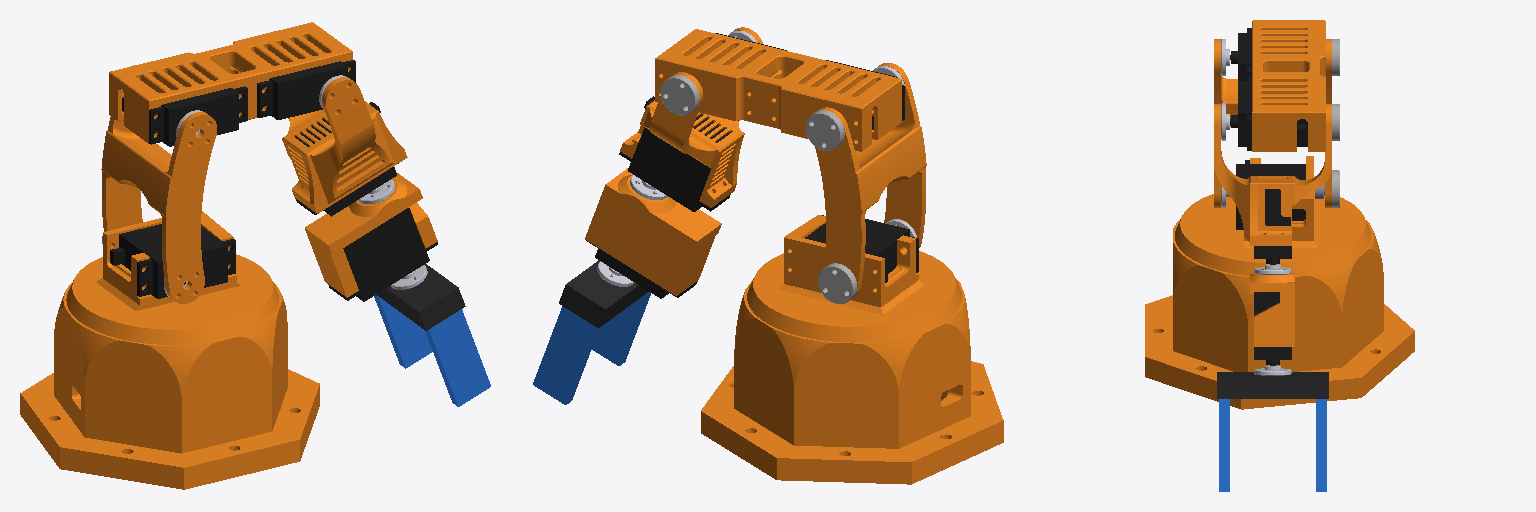
The robot description file, URDF, robot "mahut_kol":
<?xml version="1.0" encoding="utf-8"?>
<!-- Üretildi: scripts/mjcf_to_urdf.py (Yeni_model/arm_mujoco.xml). Elle düzenleme. -->
<robot name="mahut_kol">
  <material name="mat0"><color rgba="0.95 0.55 0.15 1.0"/></material>
  <material name="mat1"><color rgba="0.15 0.15 0.15 1.0"/></material>
  <material name="mat2"><color rgba="0.8 0.8 0.85 1.0"/></material>
  <material name="mat3"><color rgba="0.7 0.7 0.7 1.0"/></material>
  <material name="mat4"><color rgba="0.6 0.6 0.65 1.0"/></material>
  <material name="mat5"><color rgba="0.2 0.2 0.2 1.0"/></material>
  <material name="mat6"><color rgba="0.2 0.5 0.9 1.0"/></material>
  <link name="base_link">
    <inertial><origin xyz="-0.0017497962 3.103677e-06 0.033321023" rpy="0 -0 0"/><mass value="2.3991415"/><inertia ixx="0.0042487026" ixy="-1.3010903e-08" ixz="5.1621634e-05" iyy="0.0043231938" iyz="4.2568481e-08" izz="0.0059883261"/></inertial>
    <visual><origin xyz="0.00017414587 -8.1382822e-07 0.032529586" rpy="1.5704775 -1.5626057 -3.1412738"/><geometry><mesh filename="../meshes/base.stl"/></geometry><material name="mat0"/></visual>
    <collision><origin xyz="0.00017414587 -8.1382822e-07 0.032529586" rpy="1.5704775 -1.5626057 -3.1412738"/><geometry><mesh filename="../meshes/base.stl"/></geometry></collision>
    <visual><origin xyz="-0.0094135191 -2.8190671e-09 0.038651575" rpy="-1.4544058 -1.110223e-15 1.5707963"/><geometry><mesh filename="../meshes/servo1.stl"/></geometry><material name="mat1"/></visual>
    <collision><origin xyz="-0.0094135191 -2.8190671e-09 0.038651575" rpy="-1.4544058 -1.110223e-15 1.5707963"/><geometry><mesh filename="../meshes/servo1.stl"/></geometry></collision>
  </link>
  <link name="link0">
    <inertial><origin xyz="0.00013939106 0.00074845319 0.014287667" rpy="0 -0 0"/><mass value="0.94696633"/><inertia ixx="0.00052596557" ixy="-7.6734031e-07" ixz="-3.2852494e-06" iyy="0.0005553293" iyz="-5.3154704e-06" izz="0.00087601291"/></inertial>
    <visual><origin xyz="-2.6465775e-06 -3.0028526e-09 0.0007421913" rpy="-1.5707963 1.5707963 0"/><geometry><mesh filename="../meshes/horn1.stl"/></geometry><material name="mat2"/></visual>
    <collision><origin xyz="-2.6465775e-06 -3.0028526e-09 0.0007421913" rpy="-1.5707963 1.5707963 0"/><geometry><mesh filename="../meshes/horn1.stl"/></geometry></collision>
    <visual><origin xyz="0.0005211609 0.0020814385 0.011676969" rpy="1.9574938 -1.4936363 -1.8952096"/><geometry><mesh filename="../meshes/link1.stl"/></geometry><material name="mat0"/></visual>
    <collision><origin xyz="0.0005211609 0.0020814385 0.011676969" rpy="1.9574938 -1.4936363 -1.8952096"/><geometry><mesh filename="../meshes/link1.stl"/></geometry></collision>
    <visual><origin xyz="-0.00045177394 -0.00080157727 0.027874001" rpy="0.11639048 1.5707963 0"/><geometry><mesh filename="../meshes/servo1.stl"/></geometry><material name="mat1"/></visual>
    <collision><origin xyz="-0.00045177394 -0.00080157727 0.027874001" rpy="0.11639048 1.5707963 0"/><geometry><mesh filename="../meshes/servo1.stl"/></geometry></collision>
  </link>
  <link name="link1">
    <inertial><origin xyz="-0.00021788633 0.02713021 0.044896813" rpy="0 -0 0"/><mass value="0.31114101"/><inertia ixx="0.00034096141" ixy="-2.0516641e-06" ixz="-1.0679379e-05" iyy="0.00017513836" iyz="2.4296558e-06" izz="0.00019134108"/></inertial>
    <visual><origin xyz="2.6367682e-06 -0.0007421913 -2.27673e-07" rpy="-3.0543262 -1.4155344e-15 1.5707963"/><geometry><mesh filename="../meshes/horn1.stl"/></geometry><material name="mat2"/></visual>
    <collision><origin xyz="2.6367682e-06 -0.0007421913 -2.27673e-07" rpy="-3.0543262 -1.4155344e-15 1.5707963"/><geometry><mesh filename="../meshes/horn1.stl"/></geometry></collision>
    <visual><origin xyz="0.00028310356 0.025208087 0.041736462" rpy="-3.1395065 -0.081028503 -3.1403311"/><geometry><mesh filename="../meshes/link2.stl"/></geometry><material name="mat0"/></visual>
    <collision><origin xyz="0.00028310356 0.025208087 0.041736462" rpy="-3.1395065 -0.081028503 -3.1403311"/><geometry><mesh filename="../meshes/link2.stl"/></geometry></collision>
    <visual><origin xyz="2.6206498e-06 0.057942297 -2.353809e-07" rpy="2.7052603 -4.7773018e-07 1.5707953"/><geometry><mesh filename="../meshes/pin1.stl"/></geometry><material name="mat3"/></visual>
    <collision><origin xyz="2.6206498e-06 0.057942297 -2.353809e-07" rpy="2.7052603 -4.7773018e-07 1.5707953"/><geometry><mesh filename="../meshes/pin1.stl"/></geometry></collision>
    <visual><origin xyz="2.6366124e-06 0.050026 -2.2879336e-07" rpy="-0.43633231 -1.2212453e-15 1.5707963"/><geometry><mesh filename="../meshes/bearing1.stl"/></geometry><material name="mat4"/></visual>
    <collision><origin xyz="2.6366124e-06 0.050026 -2.2879336e-07" rpy="-0.43633231 -1.2212453e-15 1.5707963"/><geometry><mesh filename="../meshes/bearing1.stl"/></geometry></collision>
    <visual><origin xyz="0.0070796834 -0.0007421913 0.08089078" rpy="2.443461 -9.9920072e-16 1.5707963"/><geometry><mesh filename="../meshes/horn1.stl"/></geometry><material name="mat2"/></visual>
    <collision><origin xyz="0.0070796834 -0.0007421913 0.08089078" rpy="2.443461 -9.9920072e-16 1.5707963"/><geometry><mesh filename="../meshes/horn1.stl"/></geometry></collision>
    <visual><origin xyz="0.0070796989 0.057942297 0.080890787" rpy="-0.43633231 4.7773017e-07 1.5707974"/><geometry><mesh filename="../meshes/pin1.stl"/></geometry><material name="mat3"/></visual>
    <collision><origin xyz="0.0070796989 0.057942297 0.080890787" rpy="-0.43633231 4.7773017e-07 1.5707974"/><geometry><mesh filename="../meshes/pin1.stl"/></geometry></collision>
    <visual><origin xyz="0.0070796829 0.050026 0.080890781" rpy="1.1344631 -1.6098234e-15 1.5707963"/><geometry><mesh filename="../meshes/bearing1.stl"/></geometry><material name="mat4"/></visual>
    <collision><origin xyz="0.0070796829 0.050026 0.080890781" rpy="1.1344631 -1.6098234e-15 1.5707963"/><geometry><mesh filename="../meshes/bearing1.stl"/></geometry></collision>
  </link>
  <link name="link2">
    <inertial><origin xyz="0.04076203 0.030354201 0.0014821496" rpy="0 -0 0"/><mass value="0.81843902"/><inertia ixx="0.00018234285" ixy="2.4203458e-16" ixz="-6.057302e-17" iyy="0.0010175443" iyz="-4.5654918e-06" izz="0.0011265212"/></inertial>
    <visual><origin xyz="0.0094129026 0.025374425 1.703526e-06" rpy="0.11639048 1.5707963 0"/><geometry><mesh filename="../meshes/servo1.stl"/></geometry><material name="mat1"/></visual>
    <collision><origin xyz="0.0094129026 0.025374425 1.703526e-06" rpy="0.11639048 1.5707963 0"/><geometry><mesh filename="../meshes/servo1.stl"/></geometry></collision>
    <visual><origin xyz="0.040762889 0.034269652 0.0036059036" rpy="1.5707558 1.4819888 -1.5708462"/><geometry><mesh filename="../meshes/link3.stl"/></geometry><material name="mat0"/></visual>
    <collision><origin xyz="0.040762889 0.034269652 0.0036059036" rpy="1.5707558 1.4819888 -1.5708462"/><geometry><mesh filename="../meshes/link3.stl"/></geometry></collision>
    <visual><origin xyz="0.072111157 0.025374425 1.701634e-06" rpy="0.11639048 -1.5707963 0"/><geometry><mesh filename="../meshes/servo1.stl"/></geometry><material name="mat1"/></visual>
    <collision><origin xyz="0.072111157 0.025374425 1.701634e-06" rpy="0.11639048 -1.5707963 0"/><geometry><mesh filename="../meshes/servo1.stl"/></geometry></collision>
  </link>
  <link name="link3">
    <inertial><origin xyz="0.014922507 0.024245204 -0.04030788" rpy="0 -0 0"/><mass value="0.45107805"/><inertia ixx="0.00024074176" ixy="4.3866137e-06" ixz="3.020492e-05" iyy="0.00022083417" iyz="-1.2165251e-05" izz="0.00016938392"/></inertial>
    <visual><origin xyz="1.1157705e-06 -0.0007421913 2.3998829e-06" rpy="2.0071286 -4.4408921e-16 1.5707963"/><geometry><mesh filename="../meshes/horn1.stl"/></geometry><material name="mat2"/></visual>
    <collision><origin xyz="1.1157705e-06 -0.0007421913 2.3998829e-06" rpy="2.0071286 -4.4408921e-16 1.5707963"/><geometry><mesh filename="../meshes/horn1.stl"/></geometry></collision>
    <visual><origin xyz="0.011224492 0.023563903 -0.031240676" rpy="0.62157461 0.32746324 -3.129721"/><geometry><mesh filename="../meshes/link4.stl"/></geometry><material name="mat0"/></visual>
    <collision><origin xyz="0.011224492 0.023563903 -0.031240676" rpy="0.62157461 0.32746324 -3.129721"/><geometry><mesh filename="../meshes/link4.stl"/></geometry></collision>
    <visual><origin xyz="0.00022768685 0.057942297 -0.00010323794" rpy="-1.9198622 1.0622341e-06 1.5707959"/><geometry><mesh filename="../meshes/pin1.stl"/></geometry><material name="mat3"/></visual>
    <collision><origin xyz="0.00022768685 0.057942297 -0.00010323794" rpy="-1.9198622 1.0622341e-06 1.5707959"/><geometry><mesh filename="../meshes/pin1.stl"/></geometry></collision>
    <visual><origin xyz="0.00022769202 0.050026 -0.00010325442" rpy="-1.9198622 -4.2243986e-14 1.5707963"/><geometry><mesh filename="../meshes/bearing1.stl"/></geometry><material name="mat4"/></visual>
    <collision><origin xyz="0.00022769202 0.050026 -0.00010325442" rpy="-1.9198622 -4.2243986e-14 1.5707963"/><geometry><mesh filename="../meshes/bearing1.stl"/></geometry></collision>
    <visual><origin xyz="0.018623431 0.025276001 -0.049331971" rpy="2.0362527 -2.1094237e-15 -1.5707963"/><geometry><mesh filename="../meshes/servo1.stl"/></geometry><material name="mat1"/></visual>
    <collision><origin xyz="0.018623431 0.025276001 -0.049331971" rpy="2.0362527 -2.1094237e-15 -1.5707963"/><geometry><mesh filename="../meshes/servo1.stl"/></geometry></collision>
  </link>
  <link name="link4">
    <inertial><origin xyz="0.028045892 0.00069029305 -0.008970886" rpy="0 -0 0"/><mass value="0.42162916"/><inertia ixx="0.00011748447" ixy="6.7672113e-07" ixz="-9.6676986e-06" iyy="0.0001969267" iyz="-4.6149333e-07" izz="0.00012913982"/></inertial>
    <visual><origin xyz="0.0007421913 1.8735363e-06 -1.8692896e-06" rpy="-2.3561945 -1.8658353e-16 3.1415927"/><geometry><mesh filename="../meshes/horn1.stl"/></geometry><material name="mat2"/></visual>
    <collision><origin xyz="0.0007421913 1.8735363e-06 -1.8692896e-06" rpy="-2.3561945 -1.8658353e-16 3.1415927"/><geometry><mesh filename="../meshes/horn1.stl"/></geometry></collision>
    <visual><origin xyz="0.019957113 0.0018883574 -0.010137289" rpy="-3.109281 -0.018370071 -1.4051896"/><geometry><mesh filename="../meshes/link5.stl"/></geometry><material name="mat0"/></visual>
    <collision><origin xyz="0.019957113 0.0018883574 -0.010137289" rpy="-3.109281 -0.018370071 -1.4051896"/><geometry><mesh filename="../meshes/link5.stl"/></geometry></collision>
    <visual><origin xyz="0.028825575 1.874967e-06 -0.0094127413" rpy="-3.0252022 -1.4638662e-15 -1.5707963"/><geometry><mesh filename="../meshes/servo1.stl"/></geometry><material name="mat1"/></visual>
    <collision><origin xyz="0.028825575 1.874967e-06 -0.0094127413" rpy="-3.0252022 -1.4638662e-15 -1.5707963"/><geometry><mesh filename="../meshes/servo1.stl"/></geometry></collision>
    <visual><origin xyz="0.054942191 1.8728913e-06 -1.8686664e-06" rpy="1.5707963 1.16901e-15 -3.1415927"/><geometry><mesh filename="../meshes/horn1.stl"/></geometry><material name="mat2"/></visual>
    <collision><origin xyz="0.054942191 1.8728913e-06 -1.8686664e-06" rpy="1.5707963 1.16901e-15 -3.1415927"/><geometry><mesh filename="../meshes/horn1.stl"/></geometry></collision>
    <visual><origin xyz="0.06245 4.5152439e-06 1.8759157e-06" rpy="1.5707963 5.727468e-31 1.5707963"/><geometry><box size="0.06 0.024 0.012"/></geometry><material name="mat5"/></visual>
    <collision><origin xyz="0.06245 4.5152439e-06 1.8759157e-06" rpy="1.5707963 5.727468e-31 1.5707963"/><geometry><box size="0.06 0.024 0.012"/></geometry></collision>
  </link>
  <link name="finger_left_link">
    <inertial><origin xyz="0.025 -0.004 8.9744852e-11" rpy="0 -0 0"/><mass value="0.01"/><inertia ixx="3.6333333e-07" ixy="2.1990763e-21" ixz="-6.2821398e-15" iyy="2.4166667e-06" iyz="-5.7308765e-23" izz="2.1133333e-06"/></inertial>
    <visual><origin xyz="0.025 -1.2143064e-17 8.9744857e-11" rpy="1.5707963 5.727468e-31 1.5707963"/><geometry><box size="0.006 0.02 0.05"/></geometry><material name="mat6"/></visual>
    <collision><origin xyz="0.025 -1.2143064e-17 8.9744857e-11" rpy="1.5707963 5.727468e-31 1.5707963"/><geometry><box size="0.006 0.02 0.05"/></geometry></collision>
  </link>
  <link name="finger_right_link">
    <inertial><origin xyz="0.025 0.004 8.9744842e-11" rpy="0 -0 0"/><mass value="0.01"/><inertia ixx="3.6333333e-07" ixy="2.1990763e-21" ixz="-6.2821398e-15" iyy="2.4166667e-06" iyz="-5.7308765e-23" izz="2.1133333e-06"/></inertial>
    <visual><origin xyz="0.025 -1.5612511e-17 8.9744837e-11" rpy="1.5707963 5.727468e-31 1.5707963"/><geometry><box size="0.006 0.02 0.05"/></geometry><material name="mat6"/></visual>
    <collision><origin xyz="0.025 -1.5612511e-17 8.9744837e-11" rpy="1.5707963 5.727468e-31 1.5707963"/><geometry><box size="0.006 0.02 0.05"/></geometry></collision>
  </link>
  <link name="link_gripper_center"/>
  <joint name="joint0" type="revolute"><parent link="base_link"/><child link="link0"/><origin xyz="0 0 0.063126" rpy="0 -0 0"/><axis xyz="5.8792768e-17 -1.3322676e-15 1"/><limit lower="-1.5708" upper="1.5708" effort="3.4" velocity="3.0"/></joint>
  <joint name="joint1" type="revolute"><parent link="link0"/><child link="link1"/><origin xyz="-0.0098652831 -0.025276002 0.027874229" rpy="0 -0 0"/><axis xyz="6.9388939e-18 -1 -1.5543122e-15"/><limit lower="-1.5708" upper="1.5708" effort="3.4" velocity="3.0"/></joint>
  <joint name="joint2" type="revolute"><parent link="link1"/><child link="link2"/><origin xyz="0.0070776541 -8.3266727e-17 0.080889077" rpy="0 -0 0"/><axis xyz="8.8817842e-16 1 1.0824674e-15"/><limit lower="-1.5708" upper="1.5708" effort="3.4" velocity="3.0"/></joint>
  <joint name="joint3" type="revolute"><parent link="link2"/><child link="link3"/><origin xyz="0.081520913 -3.469447e-16 -6.9677308e-07" rpy="0 -0 0"/><axis xyz="-2.6645353e-15 -1 -3.3306691e-16"/><limit lower="-1.5708" upper="1.5708" effort="3.4" velocity="3.0"/></joint>
  <joint name="joint4" type="revolute"><parent link="link3"/><child link="link4"/><origin xyz="0.03614708 0.025274127 -0.069956783" rpy="-7.584128e-15 1.2217305 -1.2375661e-14"/><axis xyz="1 0 0"/><limit lower="-1.5708" upper="1.5708" effort="3.4" velocity="3.0"/></joint>
  <joint name="finger_left" type="prismatic"><parent link="link4"/><child link="finger_left_link"/><origin xyz="0.06845 0.026004515 1.8759372e-06" rpy="-2.04688e-31 1.4443051e-17 4.9122332e-32"/><axis xyz="-1.0702006e-15 -1 5.9164568e-31"/><limit lower="0" upper="0.022" effort="20.0" velocity="0.2"/></joint>
  <joint name="finger_right" type="prismatic"><parent link="link4"/><child link="finger_right_link"/><origin xyz="0.06845 -0.025995485 1.8759372e-06" rpy="-2.04688e-31 1.4443051e-17 4.9122332e-32"/><axis xyz="1.0702006e-15 1 -5.9164568e-31"/><limit lower="0" upper="0.022" effort="20.0" velocity="0.2"/></joint>
  <joint name="joint_gripper_center" type="fixed"><parent link="link4"/><child link="link_gripper_center"/><origin xyz="0.10645 4.5152439e-06 1.8760736e-06" rpy="-2.04688e-31 1.4443051e-17 4.9122332e-32"/></joint>
</robot>

--- What the picture shows (computed from the rendered views, not written in the file) ---
Views: 3 orthographic renders of the robot side by side, from view 1: azimuth 30°, elevation 25°; view 2: azimuth 150°, elevation 25°; view 3: azimuth 270°, elevation 25°.
Robot: mahut_kol — 9 links, 8 joints (5 revolute, 2 prismatic, 1 fixed); root link base_link; default pose: all joints at 0.
Visible links, largest first — view 1: base_link, link2, link0, link4, link1, link3, finger_right_link, finger_left_link; view 2: base_link, link0, link2, link1, link4, link3, finger_left_link, finger_right_link; view 3: base_link, link2, link0, link4, link3, link1, finger_left_link, finger_right_link.
Boxes of the visible links, x1,y1,x2,y2 form: base_link: [20, 282, 319, 489]; link2: [109, 22, 355, 146]; link0: [66, 211, 278, 344]; link4: [305, 172, 465, 330]; link1: [101, 65, 216, 303]; link3: [273, 30, 407, 216]; finger_right_link: [425, 309, 490, 406]; finger_left_link: [374, 295, 432, 368]; base_link: [701, 278, 1003, 484]; link0: [747, 215, 961, 342]; link2: [655, 29, 904, 151]; link1: [806, 63, 926, 303]; link4: [559, 168, 721, 328]; link3: [619, 27, 762, 211]; finger_left_link: [533, 306, 599, 404]; finger_right_link: [592, 292, 650, 365]; base_link: [1145, 220, 1414, 409]; link2: [1230, 20, 1325, 151]; link0: [1175, 156, 1370, 275]; link4: [1217, 264, 1328, 398]; link3: [1214, 103, 1339, 264]; link1: [1214, 39, 1339, 207]; finger_left_link: [1316, 399, 1326, 491]; finger_right_link: [1219, 399, 1229, 491].
Size in the robot's own frame: 0.2389 by 0.1445 by 0.1986 metres.
Meshes: 10 distinct files referenced, 24 mesh visuals loaded (10 binary STL).
